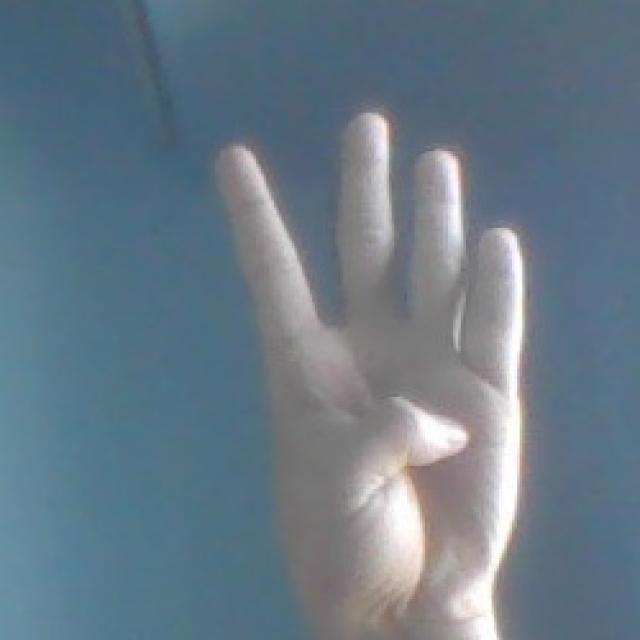Numeric-4: (219, 110, 525, 623)
